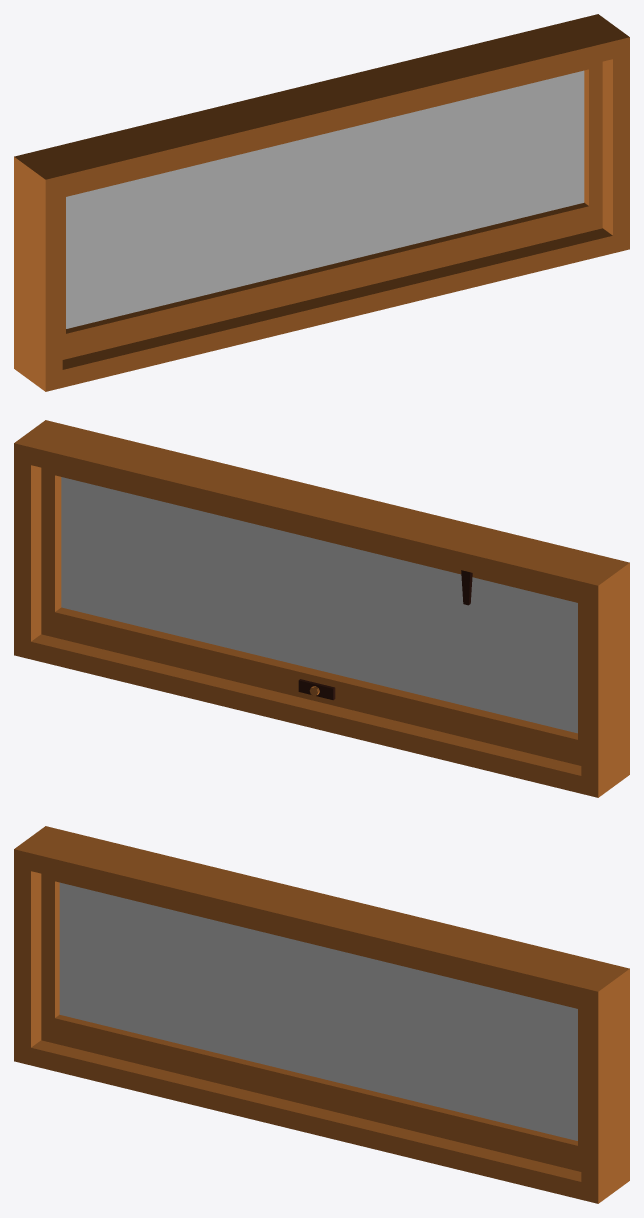
File: Window 9.fbx
3 renders of one model, top to bottom at view 1: azimuth 30°, elevation 25°; view 2: azimuth 150°, elevation 25°; view 3: azimuth 330°, elevation 25°, orthographic.
Visible parts, largest first — view 1: Node 1, Node 0; view 2: Node 1, Node 0; view 3: Node 1, Node 0.
Part boxes in pixels (left/top/right/bottom): Node 1: left=62, top=61, right=602, bottom=359; Node 0: left=14, top=14, right=629, bottom=391; Node 1: left=41, top=467, right=581, bottom=765; Node 0: left=14, top=420, right=629, bottom=797; Node 1: left=41, top=873, right=581, bottom=1171; Node 0: left=14, top=826, right=629, bottom=1203.
Size of the model in its own units: 0.1276 by 0.4721 by 1.36.
